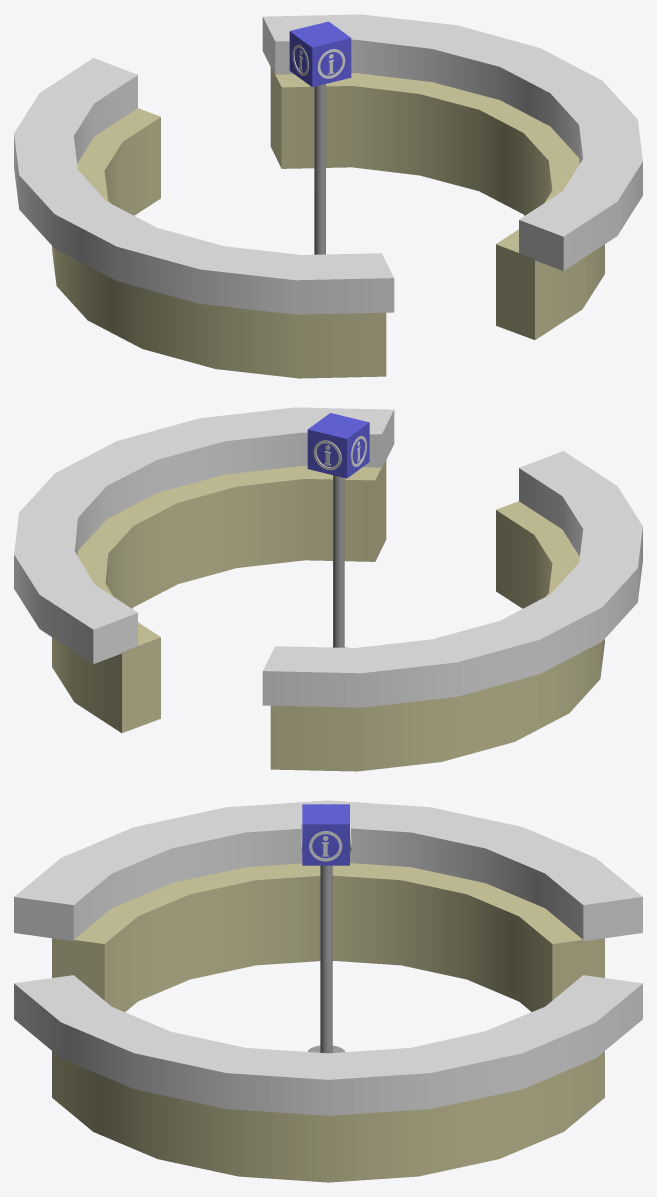
File: Info Desk.fbx
3 views of the same model, one above another, from view 1: azimuth 30°, elevation 25°; view 2: azimuth 150°, elevation 25°; view 3: azimuth 270°, elevation 25° (orthographic). The views are drawn at different scales.
Visible parts, largest first — view 1: info_kiosque; view 2: info_kiosque; view 3: info_kiosque.
Part boxes in pixels (left/top/right/bottom): info_kiosque: left=14, top=14, right=642, bottom=378; info_kiosque: left=14, top=407, right=642, bottom=771; info_kiosque: left=14, top=800, right=642, bottom=1182.
Bounding box in the file's own units: 5.12 × 2.06 × 4.87.
